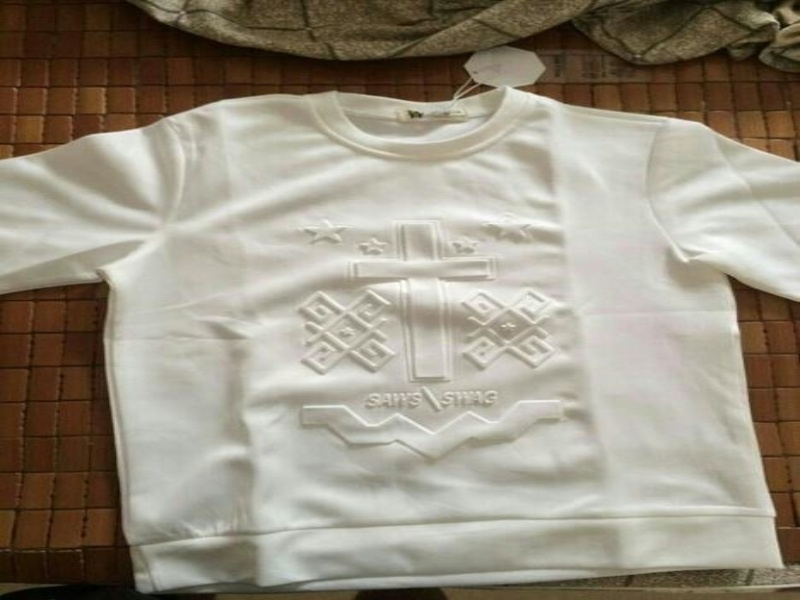short_sleeved_shirt: (0, 88, 798, 599)
